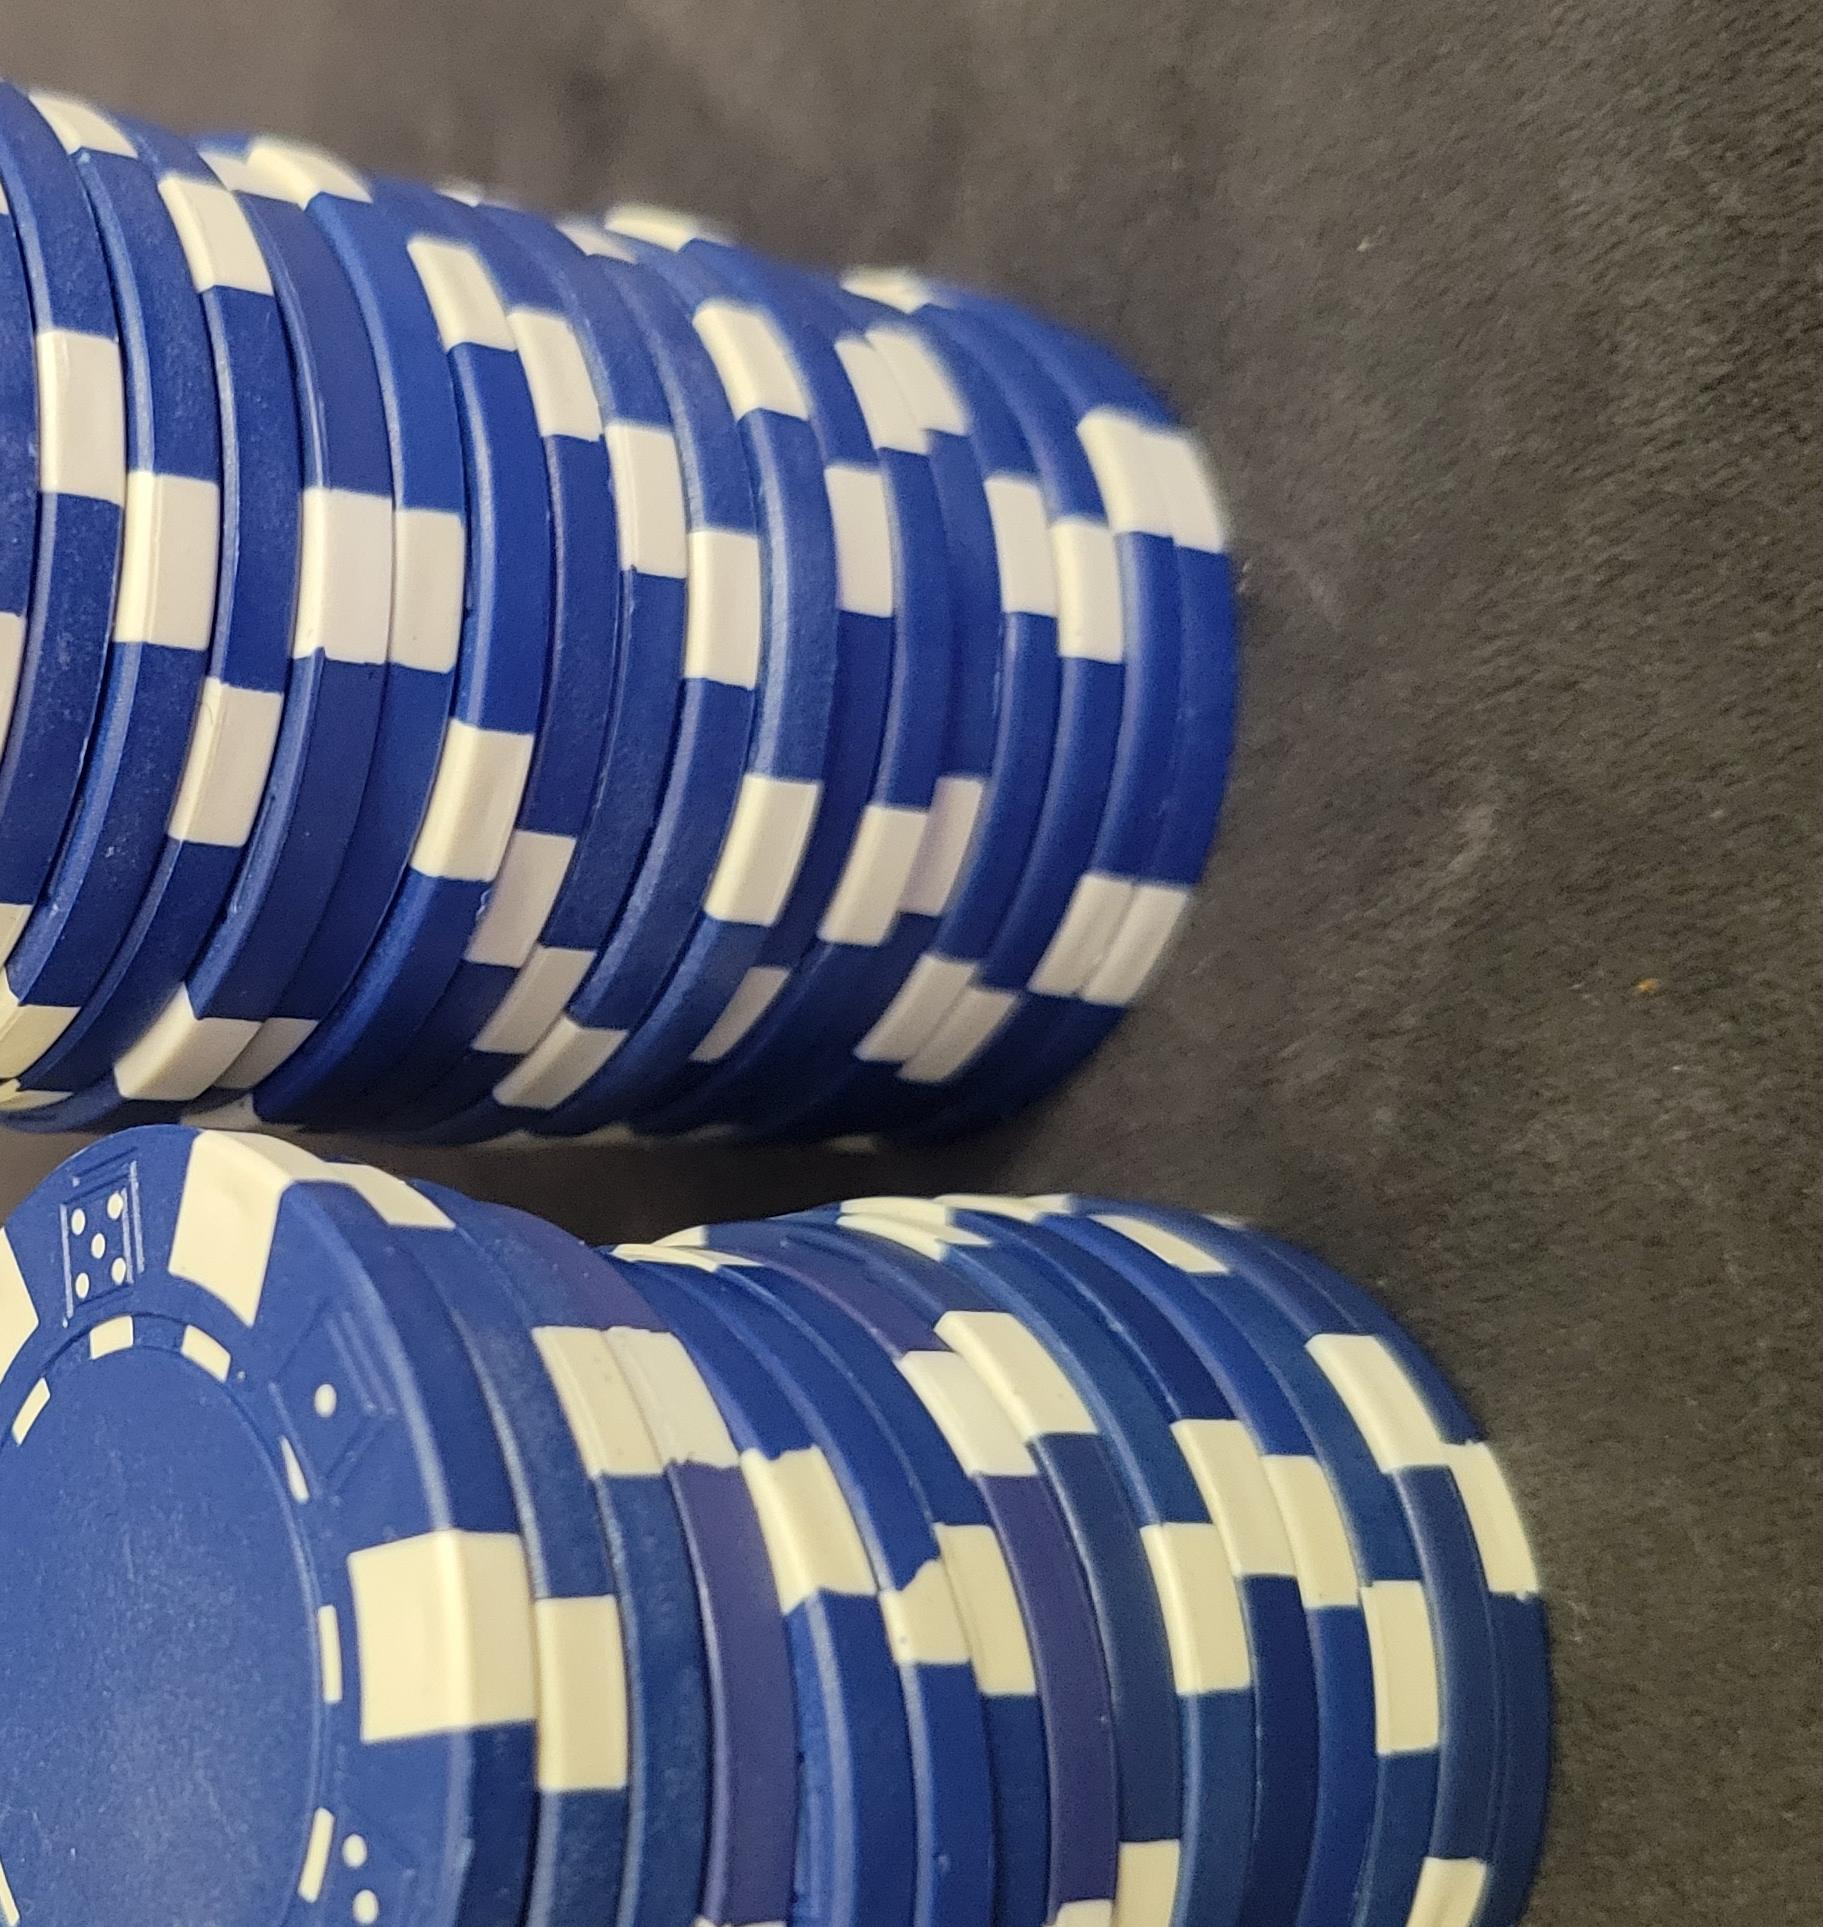Chip: (2, 147, 918, 1927)
